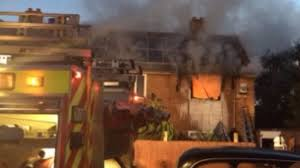smoke: (86, 5, 297, 57)
